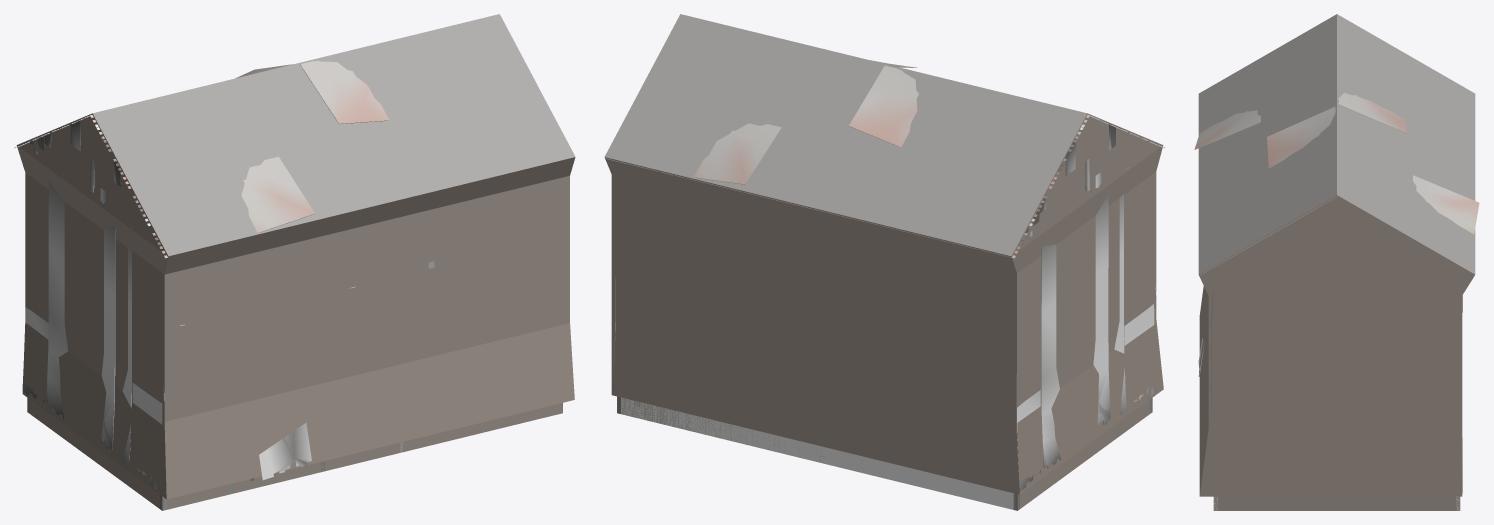
Rendered from farm_barn.dae.
3 renders of one model, left to right at view 1: azimuth 30°, elevation 25°; view 2: azimuth 150°, elevation 25°; view 3: azimuth 270°, elevation 25°, orthographic. The views are drawn at different scales.
Parts seen in each view (by area): view 1: Colmesh-1, farm_barn_a800, farm_barn_a050, farm_barn_a100; view 2: Colmesh-1, farm_barn_a800, farm_barn_a100, farm_barn_a050; view 3: Colmesh-1, farm_barn_a050, farm_barn_a100, farm_barn_a800.
Part boxes in pixels (bbox=[...]): Colmesh-1: bbox=[16, 14, 575, 499]; farm_barn_a800: bbox=[14, 115, 562, 510]; farm_barn_a050: bbox=[27, 399, 562, 509]; farm_barn_a100: bbox=[16, 16, 574, 510]; Colmesh-1: bbox=[604, 14, 1163, 494]; farm_barn_a800: bbox=[606, 64, 1165, 510]; farm_barn_a100: bbox=[618, 60, 1162, 509]; farm_barn_a050: bbox=[617, 396, 1152, 508]; Colmesh-1: bbox=[1198, 14, 1475, 496]; farm_barn_a050: bbox=[1213, 496, 1460, 510]; farm_barn_a100: bbox=[1194, 93, 1462, 510]; farm_barn_a800: bbox=[1195, 110, 1479, 510].
Bounding box in the file's own units: 10.36 × 6.83 × 8.41.
